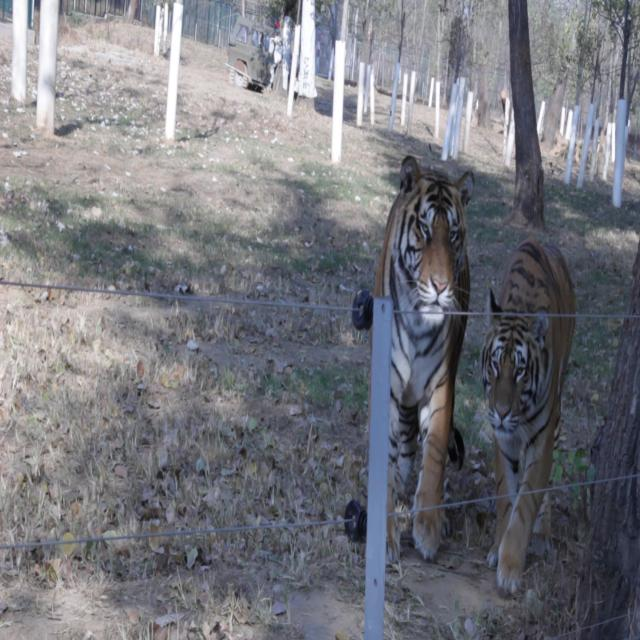Tiger: (360, 154, 474, 570), (476, 232, 578, 600)
